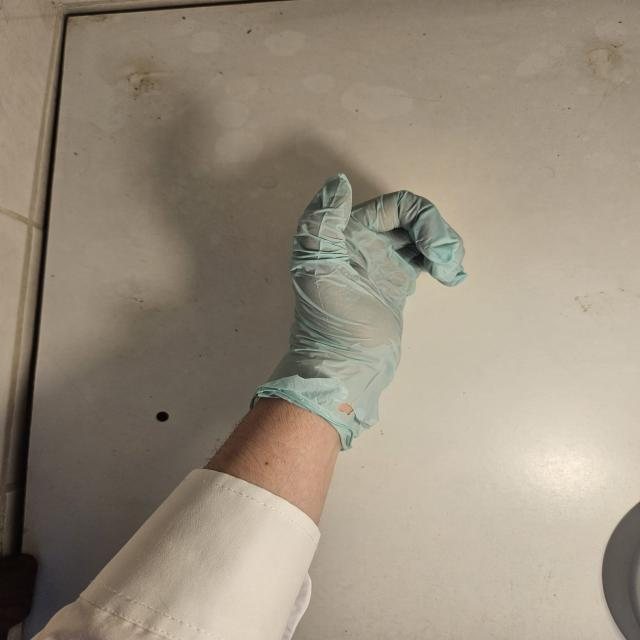gloves_damaged: (248, 169, 471, 452)
